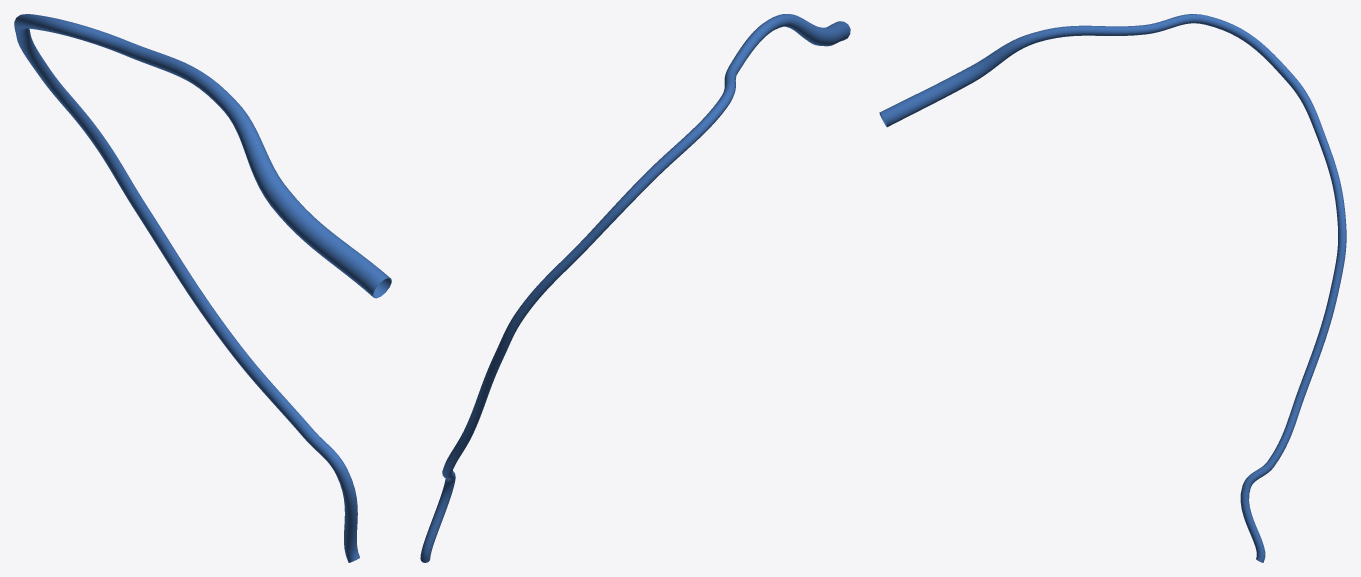
3 renders of one model, left to right at view 1: azimuth 30°, elevation 25°; view 2: azimuth 150°, elevation 25°; view 3: azimuth 270°, elevation 25°, orthographic. The views are drawn at different scales.
Parts seen in each view (by area): view 1: 右侧阴部内静脉; view 2: 右侧阴部内静脉; view 3: 右侧阴部内静脉.
Part boxes in pixels (box(x1,y1,x2,y2)): 右侧阴部内静脉: box(14, 14, 391, 562); 右侧阴部内静脉: box(420, 14, 850, 562); 右侧阴部内静脉: box(879, 14, 1346, 562).
Bounding box in the file's own units: 0.0757 × 0.1341 × 0.129.
